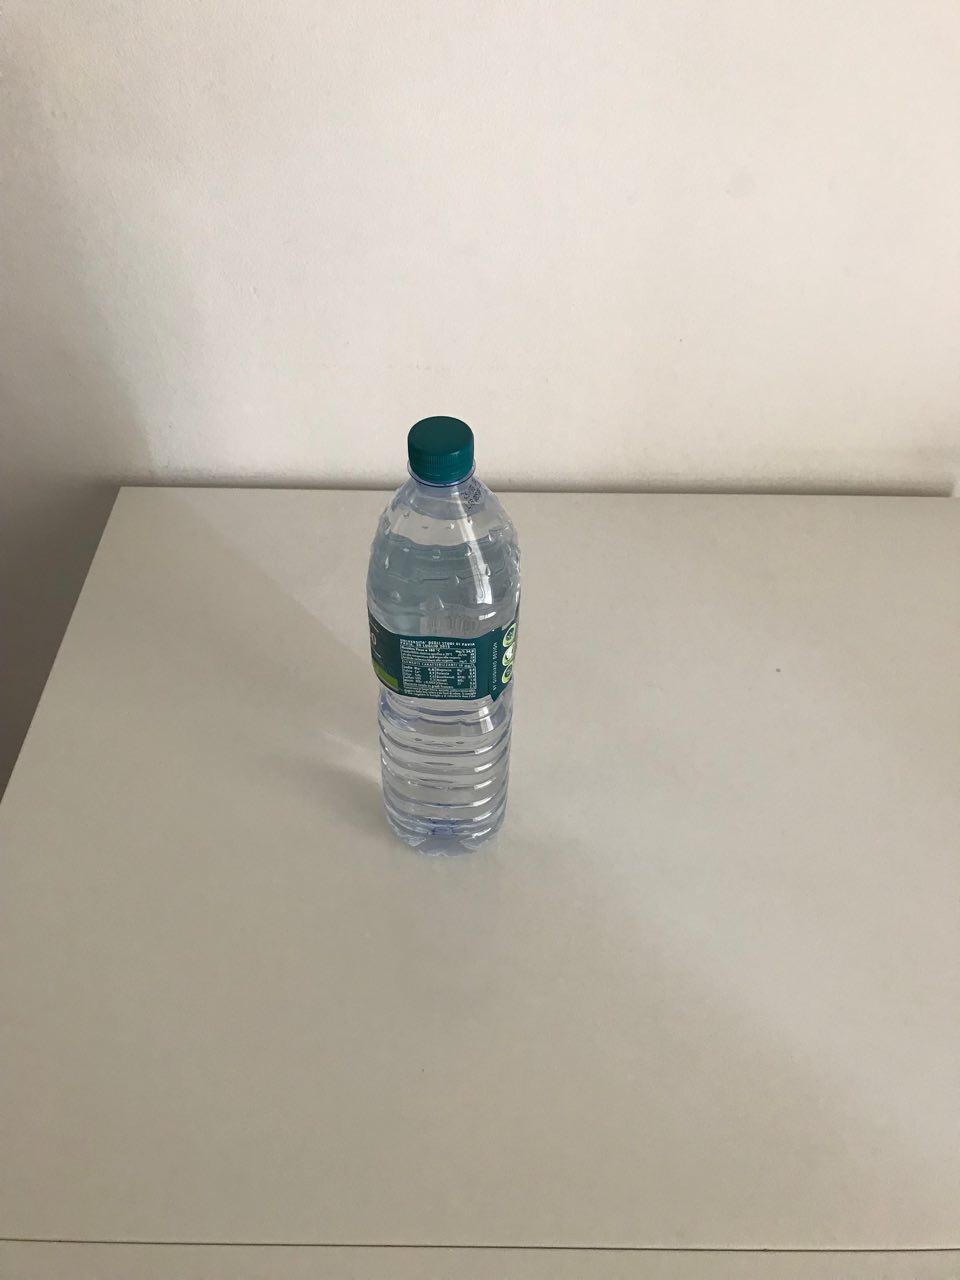san_bernardo: (365, 413, 524, 861)
